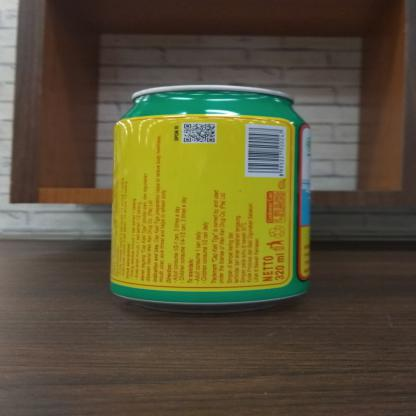mouse: (102, 76, 320, 317)
